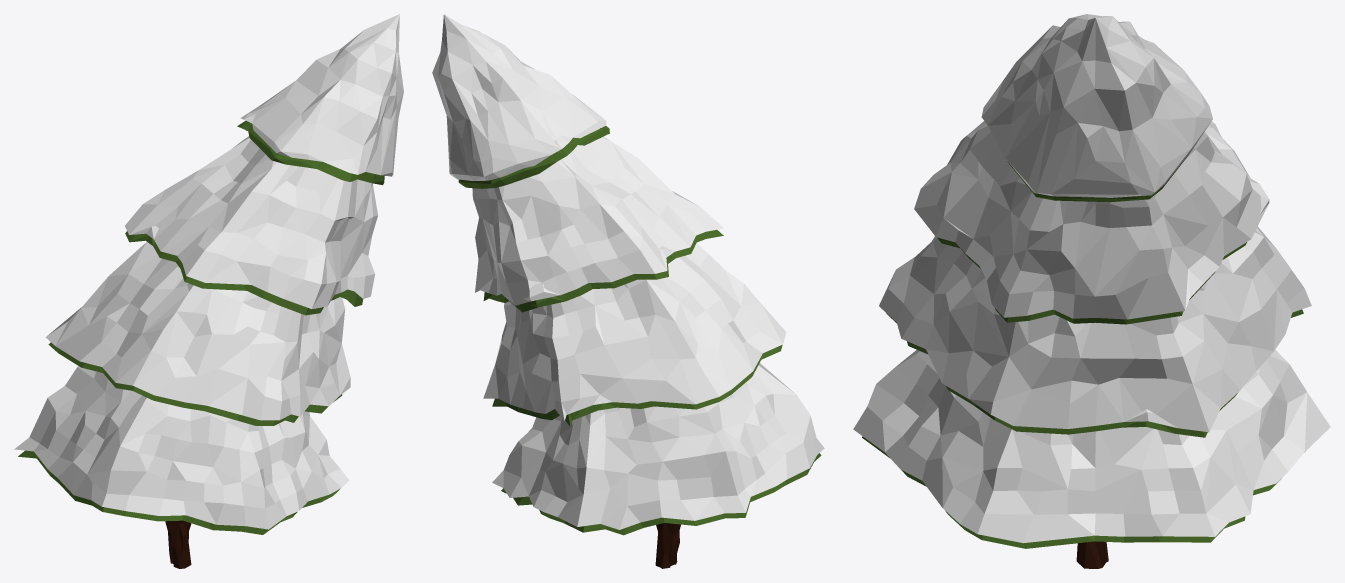
File: Arbol Nevado 4.fbx
The picture shows the model from 3 angles, left to right: view 1: azimuth 30°, elevation 25°; view 2: azimuth 150°, elevation 25°; view 3: azimuth 270°, elevation 25°; orthographic projection. The views are drawn at different scales.
Parts seen in each view (by area): view 1: Arbol nevado 4_LOD0; view 2: Arbol nevado 4_LOD0; view 3: Arbol nevado 4_LOD0.
Boxes of the visible parts, x1,y1,x2,y2 form: Arbol nevado 4_LOD0: (14,14,403,568); Arbol nevado 4_LOD0: (432,14,824,568); Arbol nevado 4_LOD0: (853,14,1330,568).
Size of what is drawn, in the model's own units: 236 by 323 by 201.
